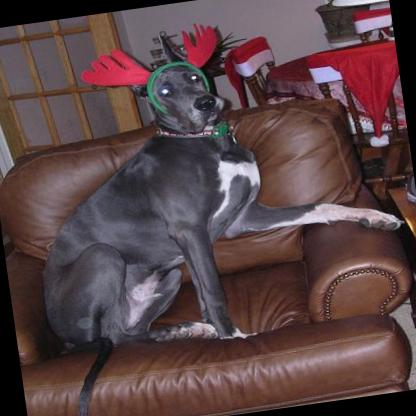Great_Dane: (1, 3, 416, 416)
